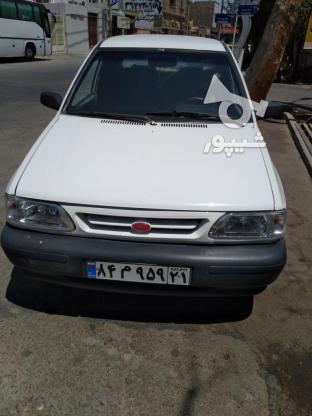car: (81, 261, 190, 285)
